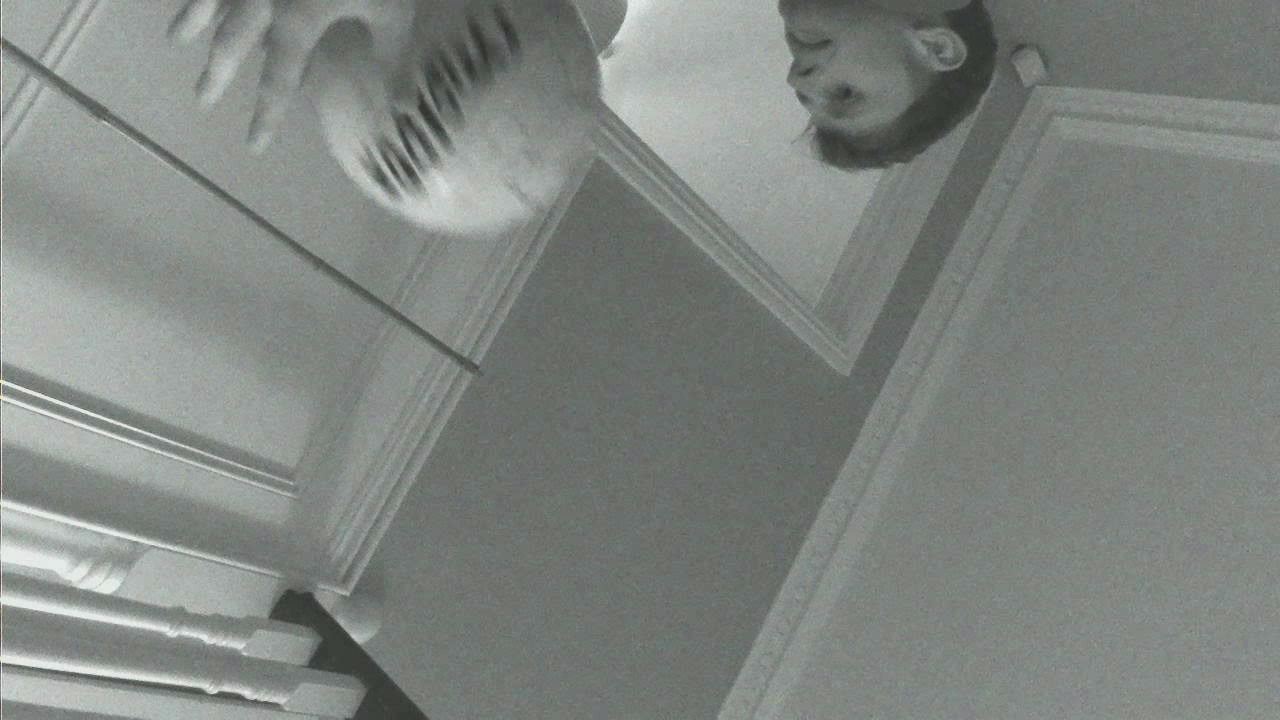Football-Spotter: (306, 0, 600, 233)
